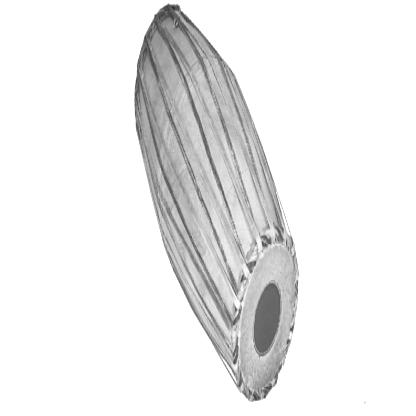Mridangam: (125, 1, 310, 410)
